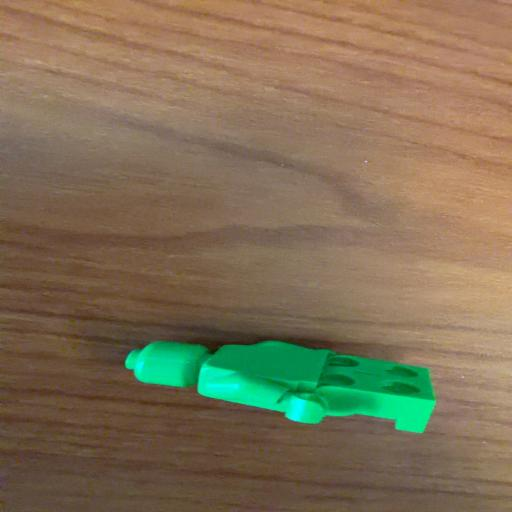UnoQ-minifig-detector: (126, 341, 435, 433)
